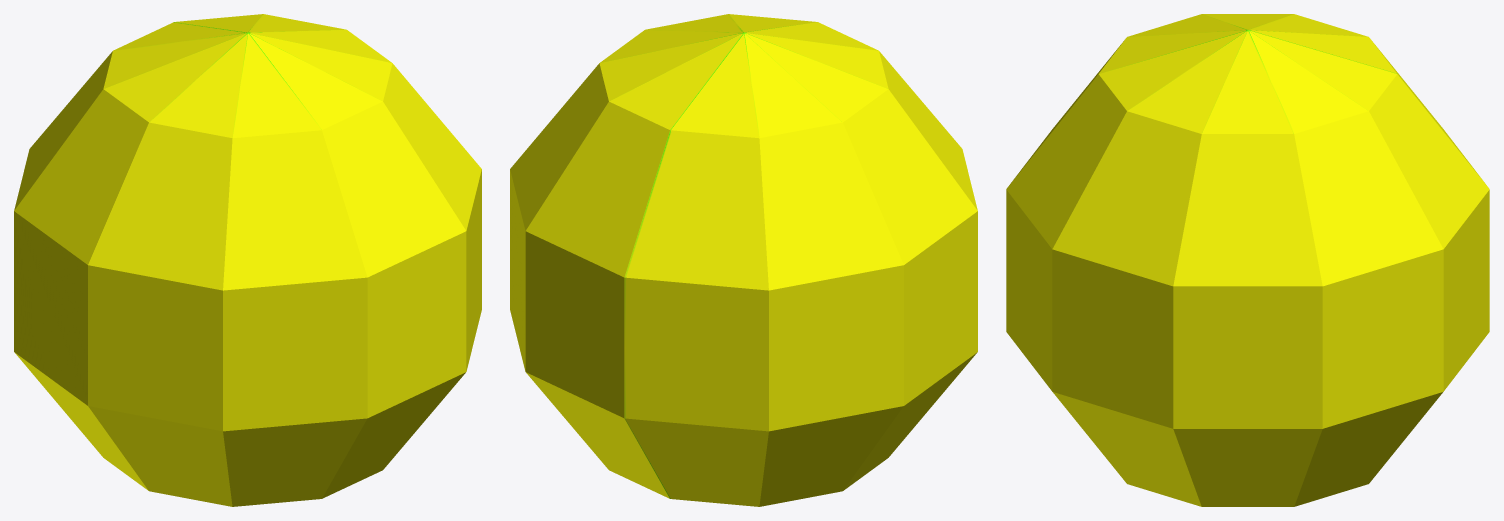
The model's file is Bullet.FBX.
3 renders of one model, left to right at view 1: azimuth 30°, elevation 25°; view 2: azimuth 150°, elevation 25°; view 3: azimuth 270°, elevation 25°, orthographic.
Visible parts, largest first — view 1: Sphere001; view 2: Sphere001; view 3: Sphere001.
Boxes of the visible parts, x1,y1,x2,y2 form: Sphere001: (14,14,481,506); Sphere001: (510,14,977,506); Sphere001: (1006,14,1489,506).
Size of the model in its own units: 3.56 by 3.74 by 3.94.
Materials: 1 (1 with a texture image).
